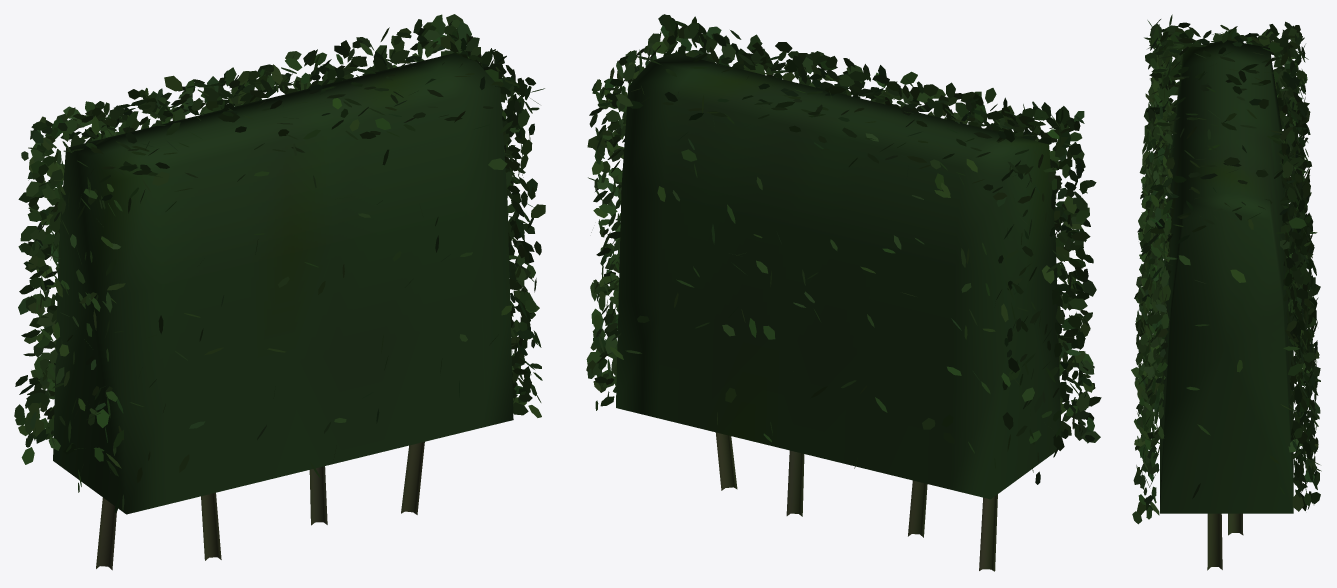
The model's file is SM_Tree_garden_hedge_0.glb.
3 views of the same model, side by side, from view 1: azimuth 30°, elevation 25°; view 2: azimuth 150°, elevation 25°; view 3: azimuth 270°, elevation 25° (orthographic). The views are drawn at different scales.
Parts seen in each view (by area): view 1: SM_Tree_garden_hedge_0; view 2: SM_Tree_garden_hedge_0; view 3: SM_Tree_garden_hedge_0.
Part boxes in pixels (x1=…): SM_Tree_garden_hedge_0: x1=14, y1=14, x2=545, y2=570; SM_Tree_garden_hedge_0: x1=586, y1=14, x2=1101, y2=571; SM_Tree_garden_hedge_0: x1=1131, y1=14, x2=1321, y2=570.
Size of the model in its own units: 1.56 by 1.51 by 0.6351.
